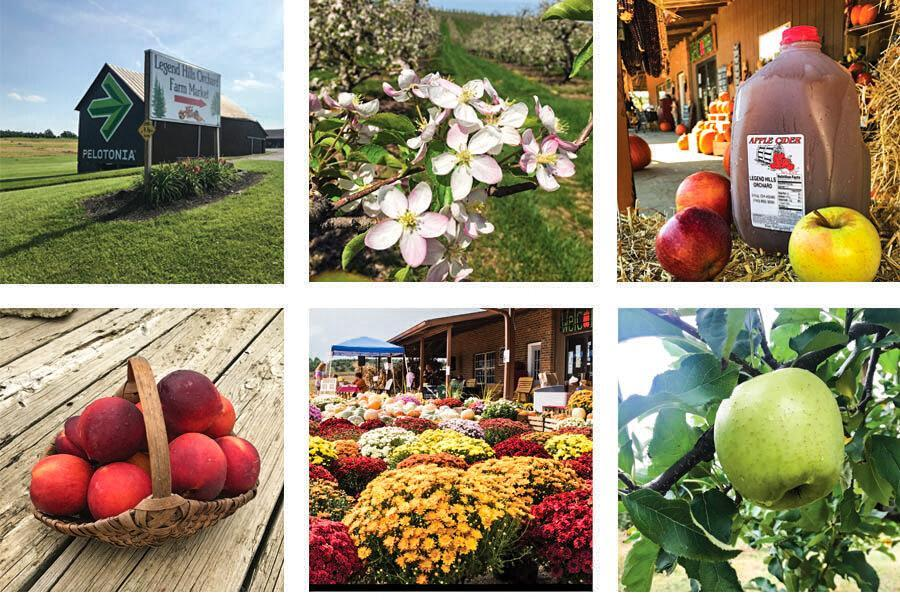apple: (712, 366, 845, 506), (786, 205, 881, 281), (654, 208, 735, 283), (165, 433, 225, 499), (80, 399, 143, 459), (158, 369, 221, 429), (31, 454, 94, 514), (89, 462, 151, 517), (673, 169, 730, 223)
